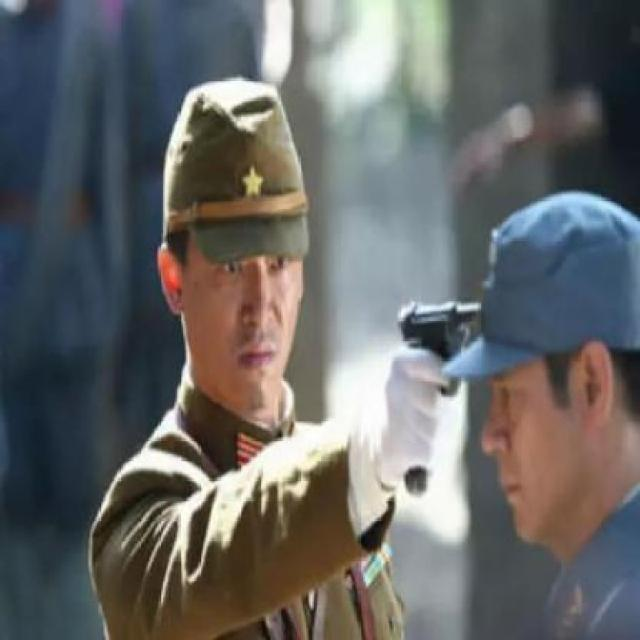face_nomask: (188, 218, 308, 400), (469, 363, 562, 522)
hand_glove: (377, 346, 449, 476)
head_nohelmet: (146, 77, 329, 269), (461, 202, 637, 382)
person: (77, 54, 429, 640), (403, 186, 640, 640)
